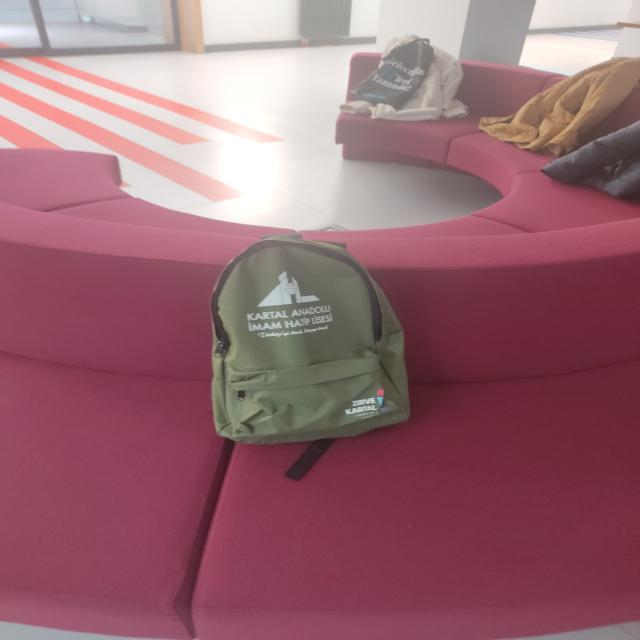bag: (203, 237, 416, 434)
